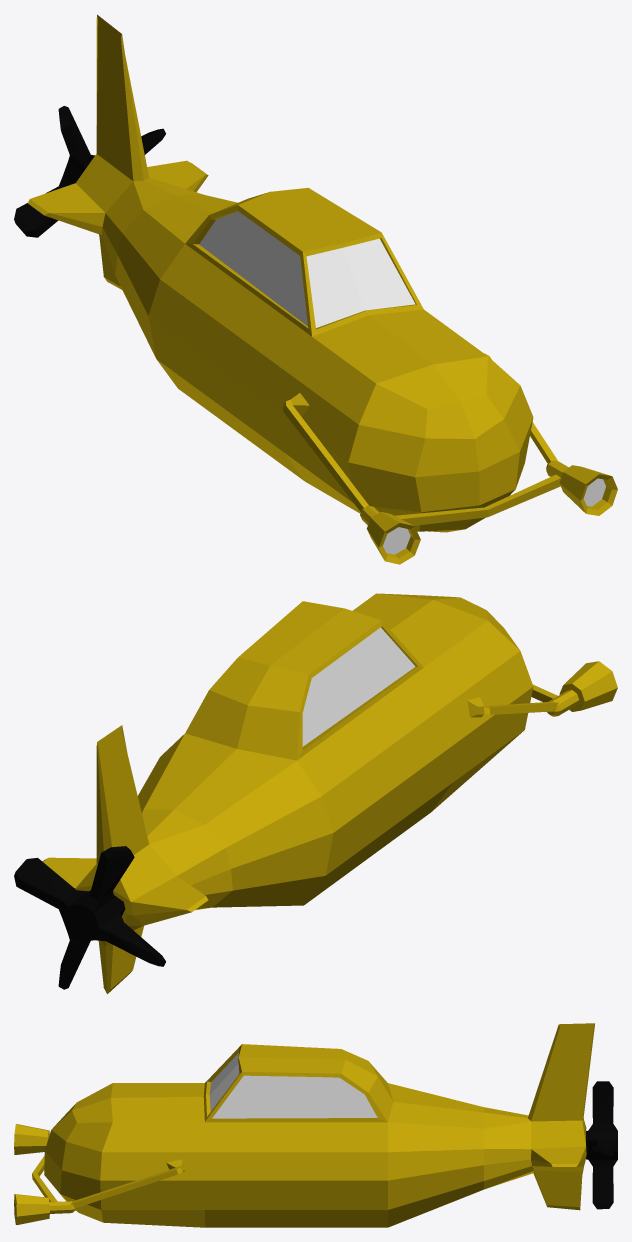
Rendered from submarine.glb.
3 renders of one model, top to bottom at view 1: azimuth 30°, elevation 25°; view 2: azimuth 150°, elevation 25°; view 3: azimuth 270°, elevation 25°, orthographic. The views are drawn at different scales.
Parts seen in each view (by area): view 1: submarine, propeller; view 2: submarine, propeller; view 3: submarine, propeller.
Part boxes in pixels (x1,y1,x2,y2): submarine: (28, 14, 617, 564); propeller: (14, 106, 165, 237); submarine: (42, 593, 617, 994); propeller: (14, 846, 165, 989); submarine: (14, 1023, 594, 1227); propeller: (586, 1081, 617, 1209).
Bounding box in the file's own units: 3.06 × 3.21 × 9.3.
